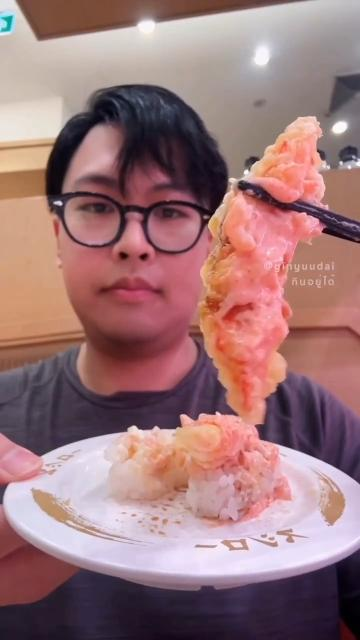janwhite: (7, 494, 360, 587)
